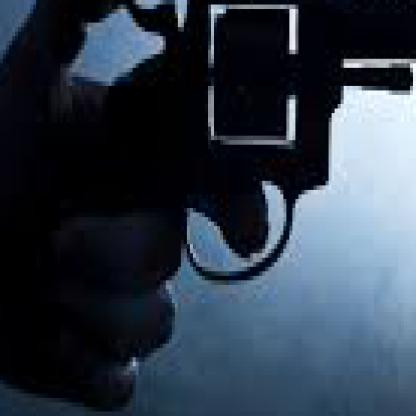gun: (33, 0, 413, 335)
